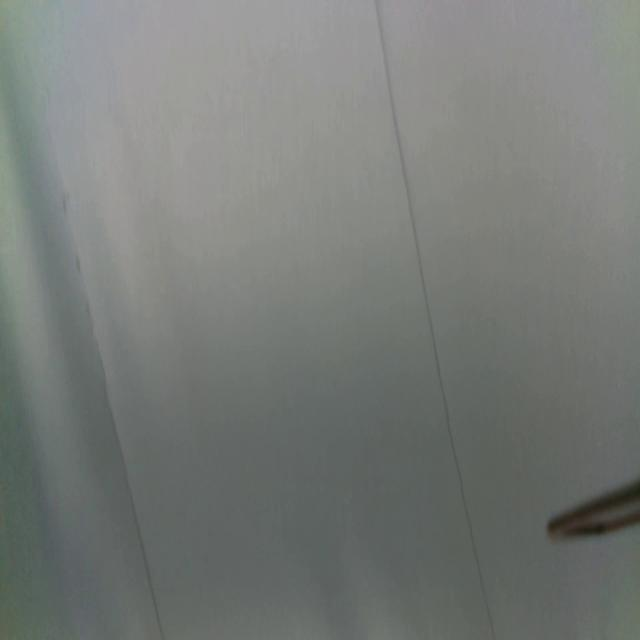crease: (374, 0, 496, 640), (89, 304, 165, 640)
